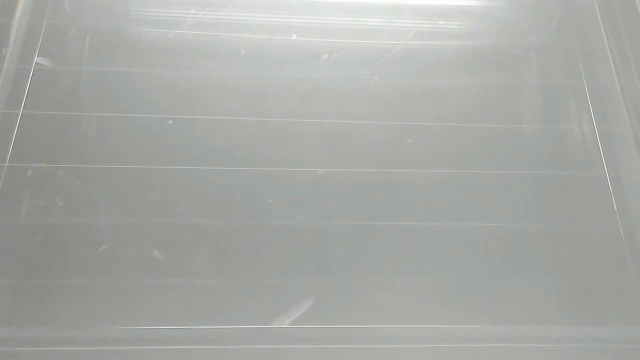alpha: (269, 291, 322, 330), (31, 53, 59, 71)
